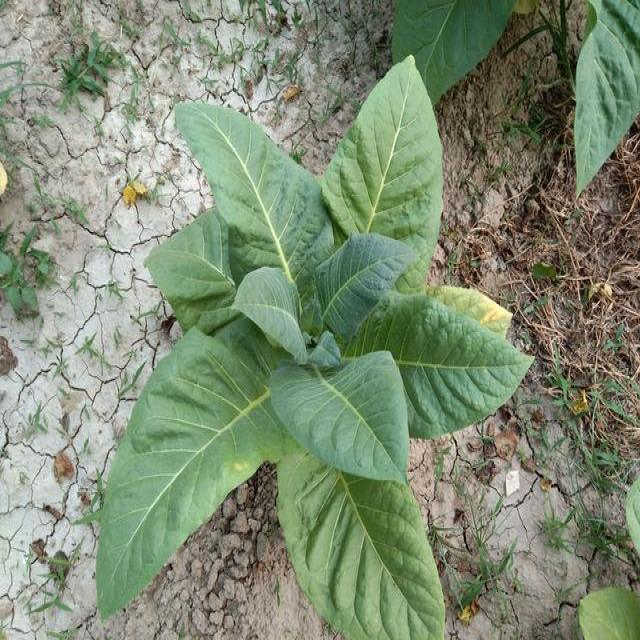crop: (92, 60, 530, 640), (384, 0, 510, 100), (575, 0, 639, 180), (572, 577, 639, 640), (630, 475, 640, 566)
